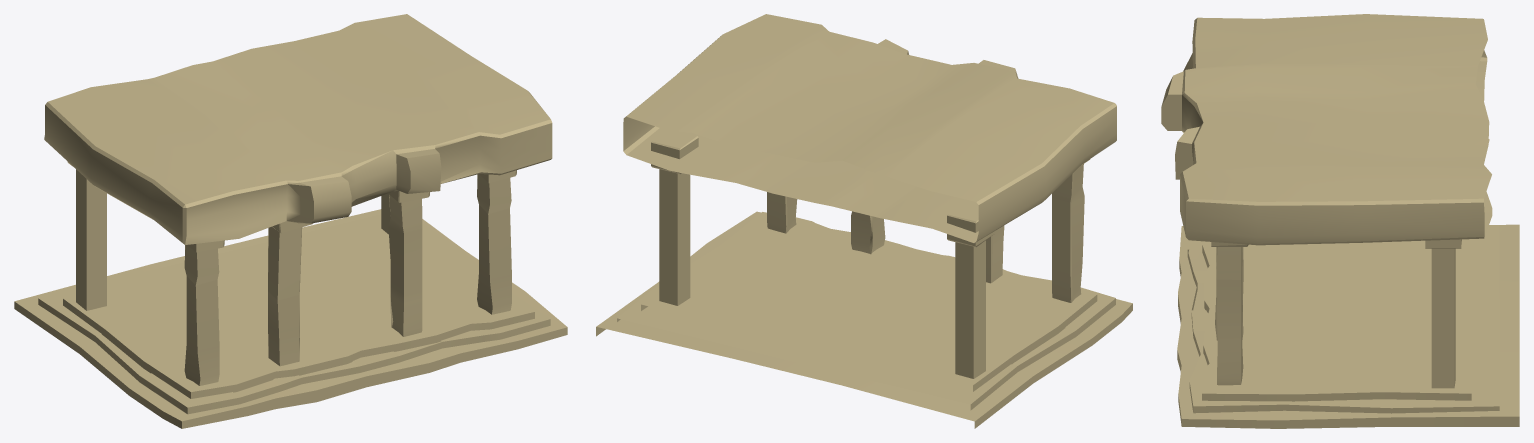
The picture shows the model from 3 angles, left to right: view 1: azimuth 30°, elevation 25°; view 2: azimuth 150°, elevation 25°; view 3: azimuth 270°, elevation 25°; orthographic projection. The views are drawn at different scales.
Parts seen in each view (by area): view 1: polySurface47; view 2: polySurface47; view 3: polySurface47.
Part boxes in pixels (<box>): polySurface47: <box>14,14,567,428</box>; polySurface47: <box>596,14,1132,428</box>; polySurface47: <box>1161,14,1519,428</box>.
Size of the model in its own units: 22.17 by 12.08 by 16.97.
